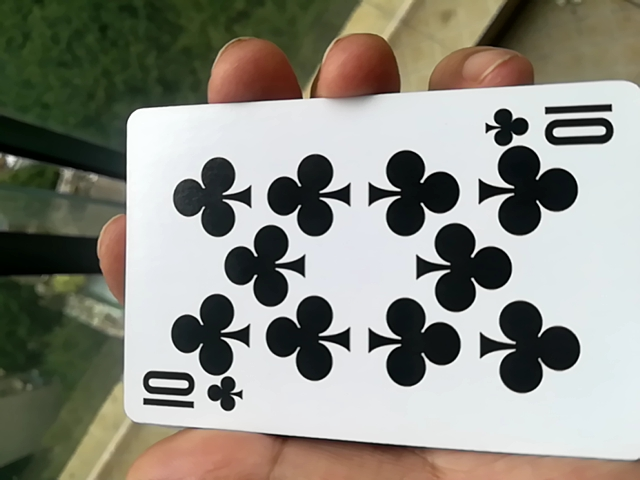mh 10: (118, 102, 634, 464)
